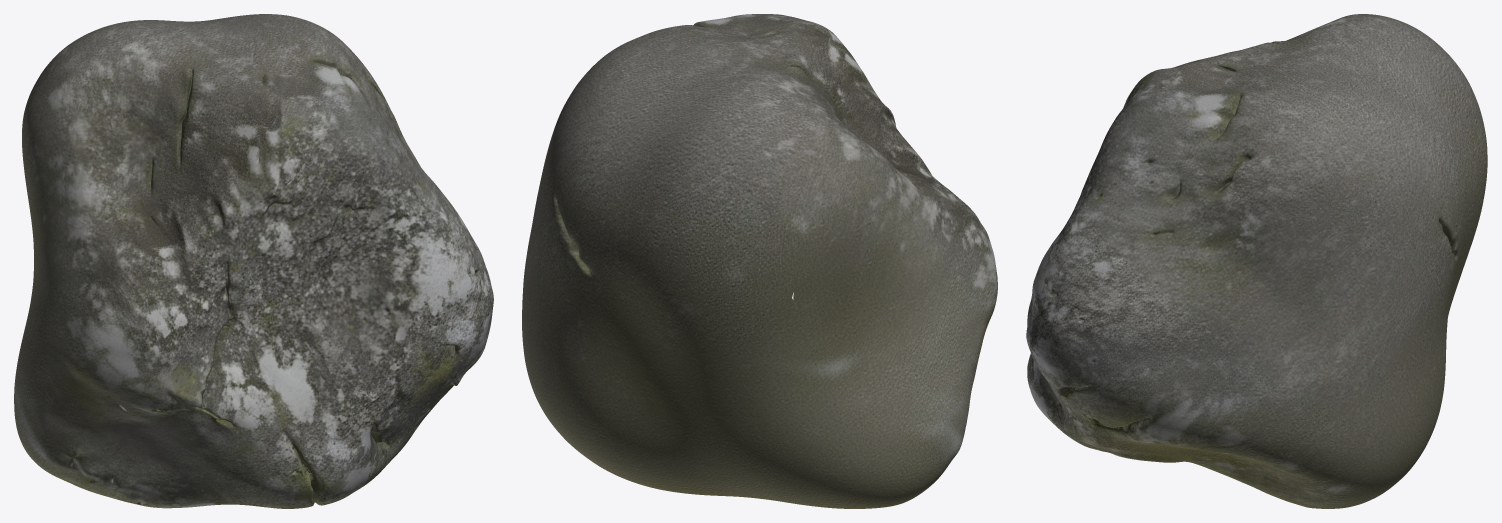
File: boulder.glb
3 views of the same model, side by side, from view 1: azimuth 30°, elevation 25°; view 2: azimuth 150°, elevation 25°; view 3: azimuth 270°, elevation 25° (orthographic). The views are drawn at different scales.
Visible parts, largest first — view 1: tripo_node_05532b95-1541-407a-91c1-97c2687bc003; view 2: tripo_node_05532b95-1541-407a-91c1-97c2687bc003; view 3: tripo_node_05532b95-1541-407a-91c1-97c2687bc003.
Boxes of the visible parts, x1,y1,x2,y2 form: tripo_node_05532b95-1541-407a-91c1-97c2687bc003: (14, 14, 493, 508); tripo_node_05532b95-1541-407a-91c1-97c2687bc003: (522, 14, 997, 508); tripo_node_05532b95-1541-407a-91c1-97c2687bc003: (1026, 14, 1487, 508).
Size of the model in its own units: 0.977 by 0.9802 by 0.967.
1 material, 1 textured.
